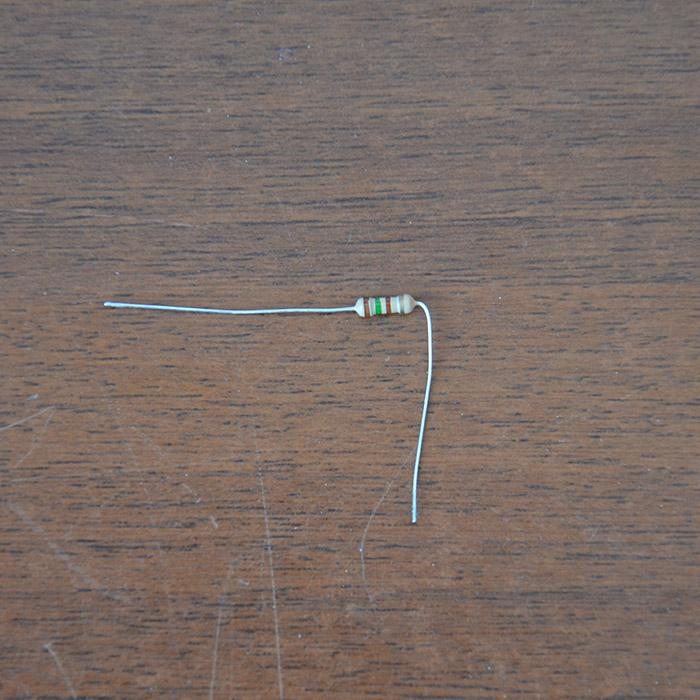resistor: (356, 294, 416, 318)
